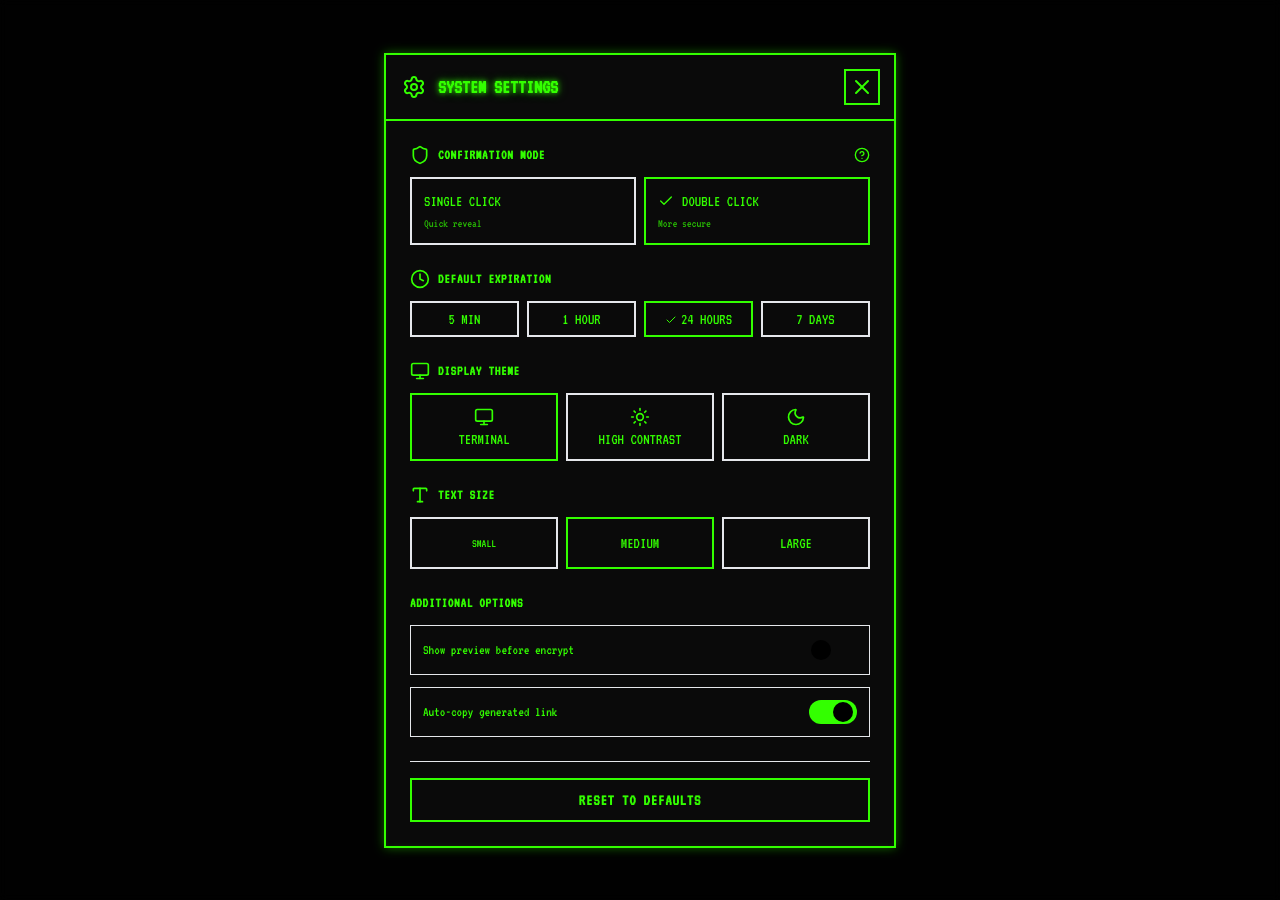
Test: Settings Component › should toggle help text for confirmation mode
Check: the text "reveal secret immediately" is not shown
// Click help button
Click the button named "toggle help for confirmation mode" at (862, 154), box [854,146,870,162]
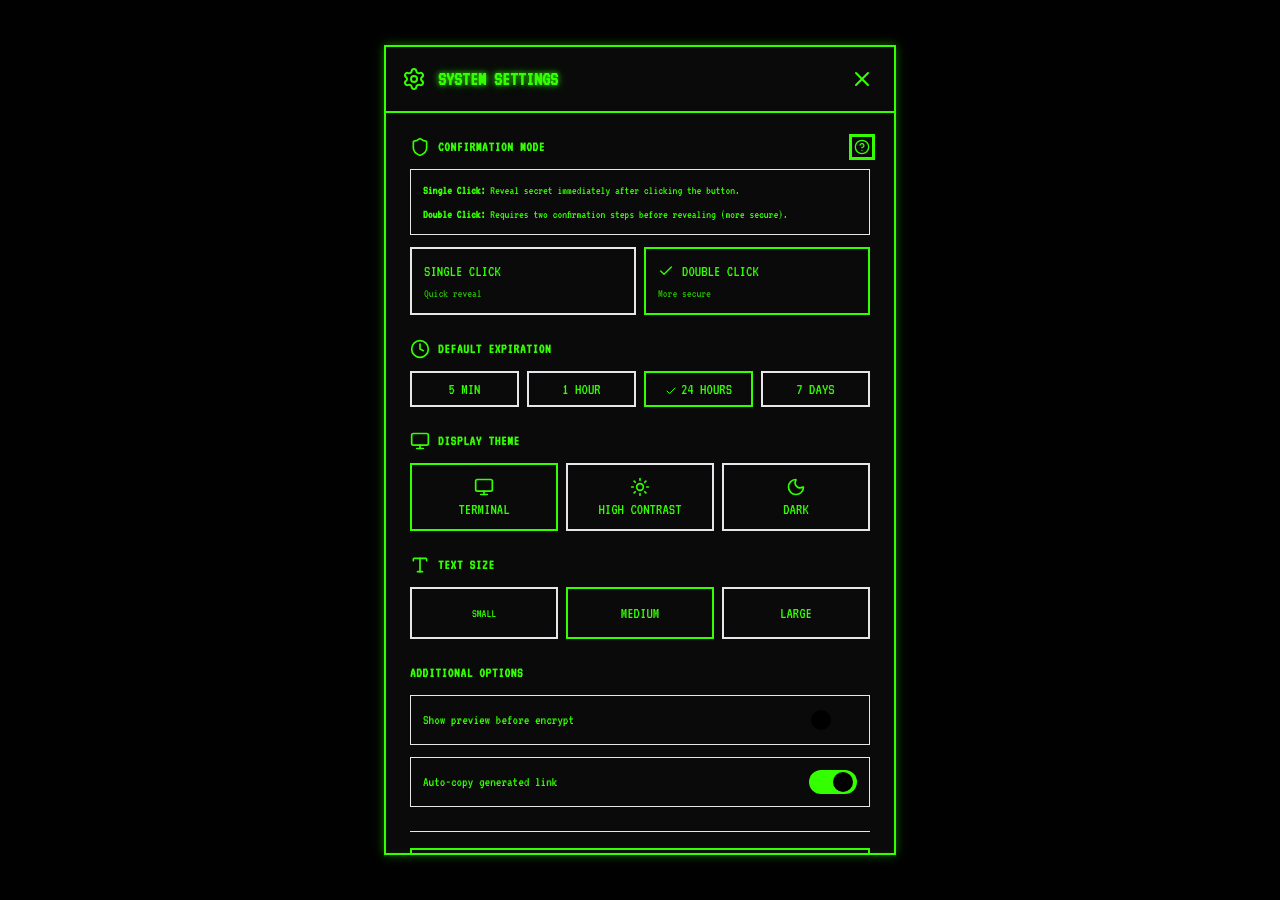
Check: the text "Reveal secret immediately" is shown, box [485,184,740,196]
Check: the text "Requires two confirmation steps" is shown, box [485,208,788,220]
